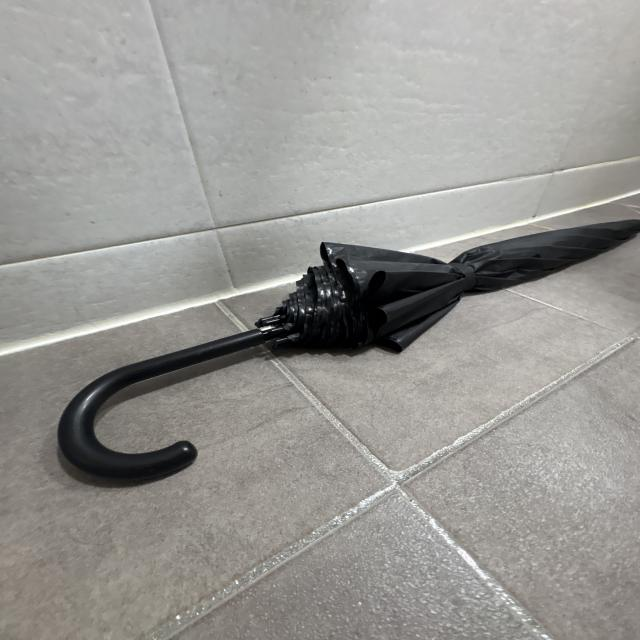umbrella: (61, 216, 640, 483)
